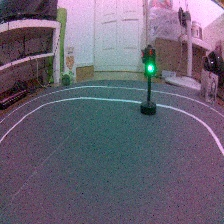green: (140, 43, 161, 116)
